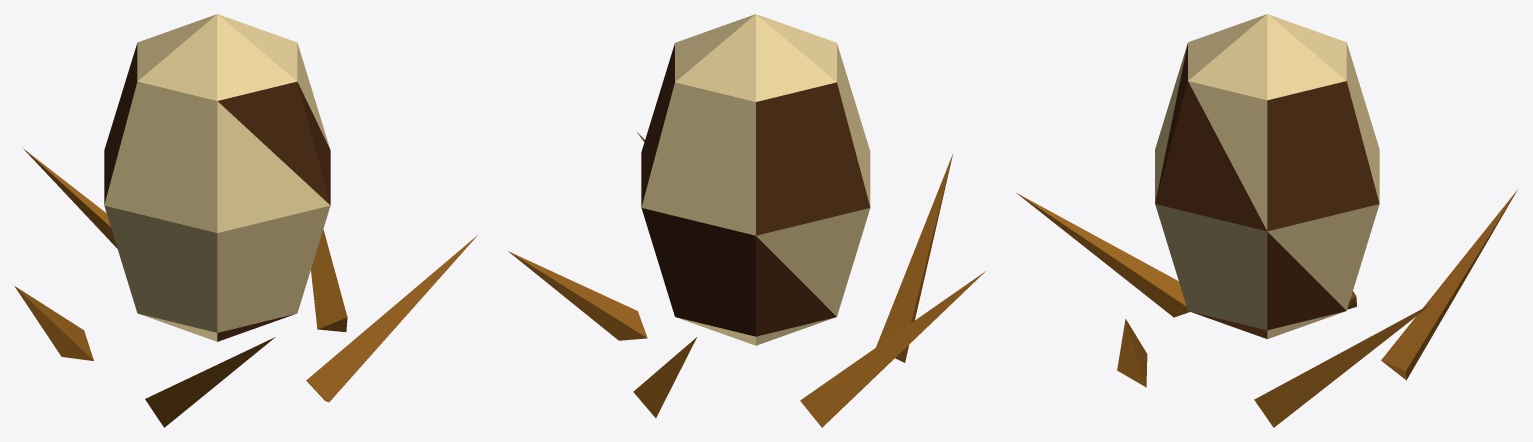
Rendered from food_egg_a.fbx.
The picture shows the model from 3 angles, left to right: view 1: azimuth 30°, elevation 25°; view 2: azimuth 150°, elevation 25°; view 3: azimuth 270°, elevation 25°; orthographic projection. The views are drawn at different scales.
Visible parts, largest first — view 1: food_egg_a; view 2: food_egg_a; view 3: food_egg_a.
Part boxes in pixels (box(x1,y1,x2,y2)): food_egg_a: box(14, 14, 478, 427); food_egg_a: box(508, 14, 985, 427); food_egg_a: box(1016, 14, 1517, 427).
Bounding box in the file's own units: 186 × 156 × 202.
